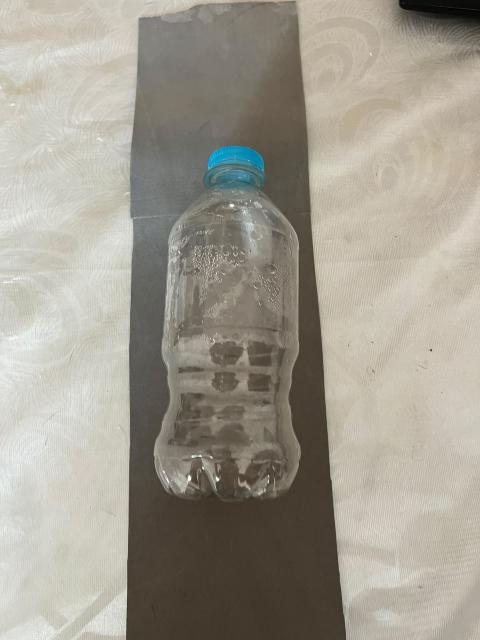PET: (136, 125, 327, 527)
